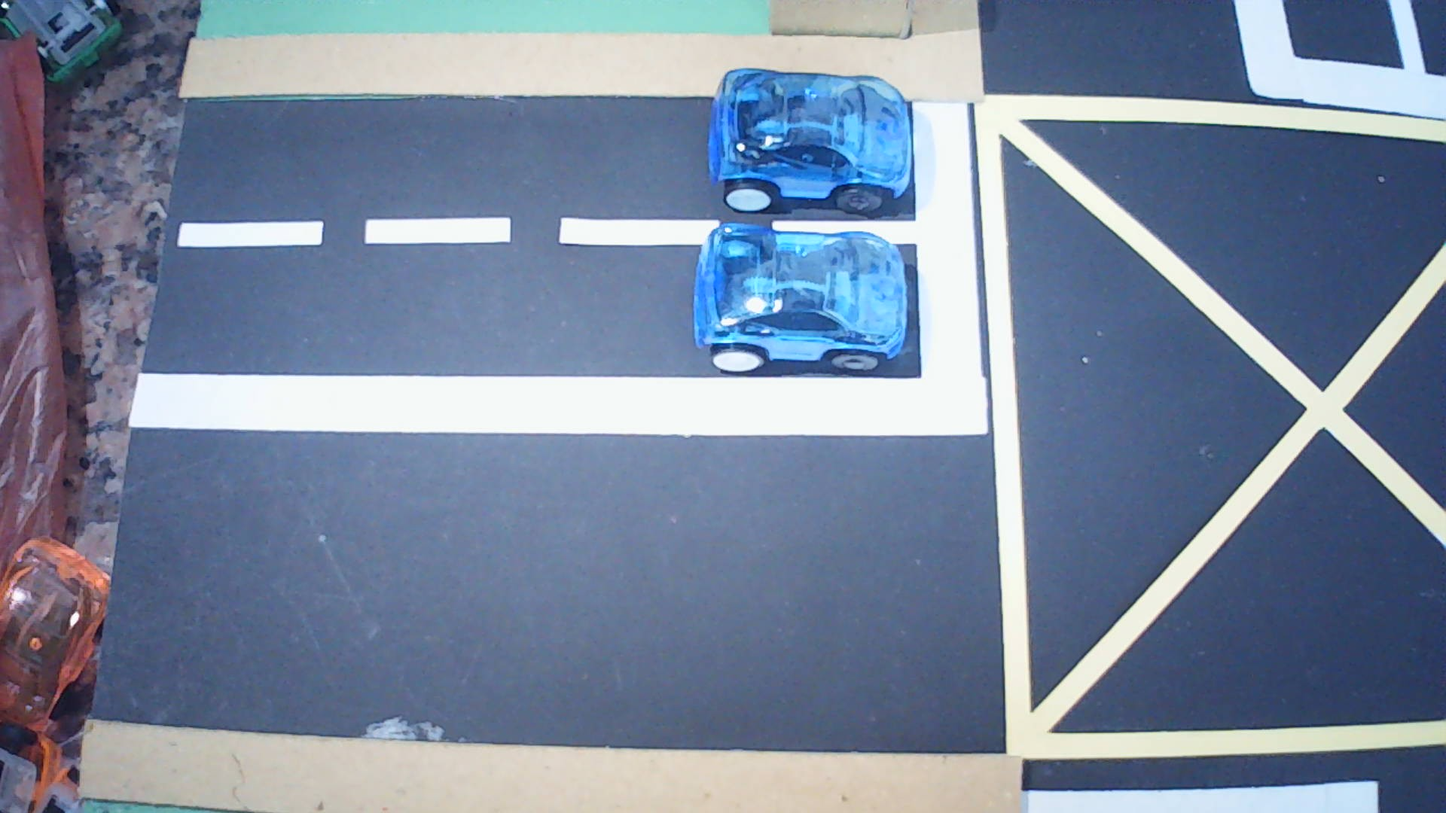Mobil biru: (694, 223, 908, 373), (709, 69, 914, 215)
